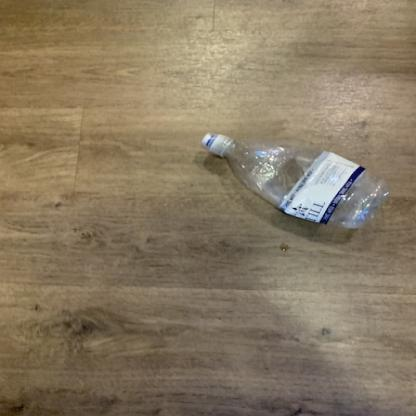trash: (192, 125, 392, 244)
